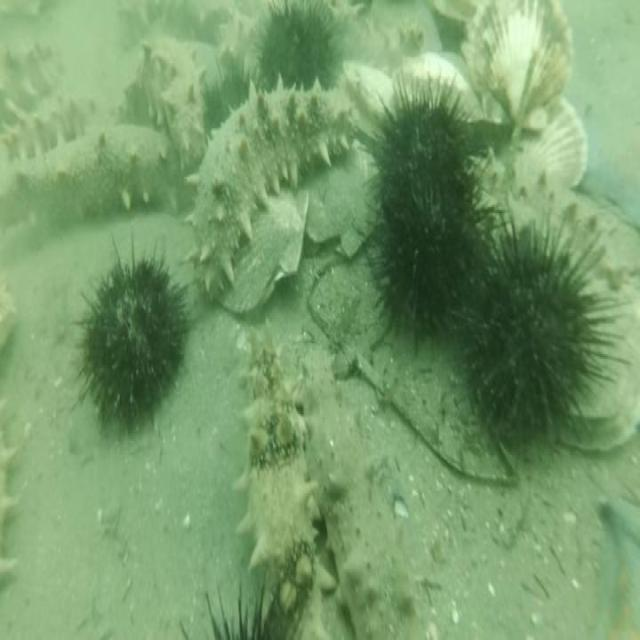echinus: (459, 215, 601, 439), (74, 240, 194, 436), (369, 163, 488, 338), (370, 82, 474, 231), (255, 0, 337, 87), (198, 63, 252, 130)
holothurian: (289, 344, 436, 640), (185, 73, 362, 305), (229, 321, 336, 640), (466, 150, 625, 313), (12, 126, 177, 234), (123, 38, 209, 172), (0, 84, 101, 163), (329, 13, 428, 68), (218, 8, 265, 84)
scallop: (459, 0, 576, 134), (213, 180, 305, 319), (306, 142, 381, 266), (512, 90, 589, 194), (337, 54, 395, 144)
